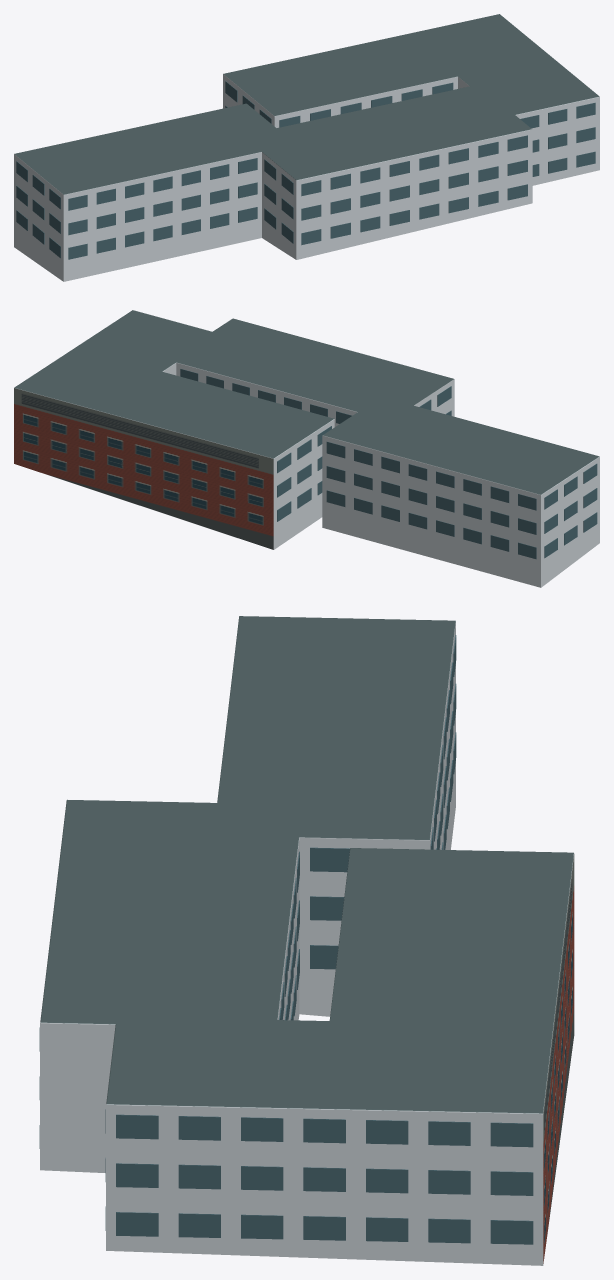
Rendered from fragments.glb.
3 views of the same model, one above another, from view 1: azimuth 30°, elevation 25°; view 2: azimuth 150°, elevation 25°; view 3: azimuth 270°, elevation 25° (orthographic). The views are drawn at different scales.
Parts seen in each view (by area): view 1: SM_kbsi_Fragment_008, SM_kbsi_Fragment_036, SM_kbsi_Fragment_019, SM_kbsi_Fragment_024, SM_kbsi_Fragment_014, SM_kbsi_Fragment_031, SM_kbsi_Fragment_061, SM_kbsi_Fragment_000, SM_kbsi_Fragment_051, SM_kbsi_Fragment_056, SM_kbsi_Fragment_039, SM_kbsi_Fragment_044 (+35 smaller); view 2: SM_kbsi_Fragment_042, SM_kbsi_Fragment_023, SM_kbsi_Fragment_034, SM_kbsi_Fragment_006, SM_kbsi_Fragment_009, SM_kbsi_Fragment_053, SM_kbsi_Fragment_049, SM_kbsi_Fragment_001, SM_kbsi_Fragment_069, SM_kbsi_Fragment_040, SM_kbsi_Fragment_010, SM_kbsi_Fragment_033 (+34 smaller); view 3: SM_kbsi_Fragment_011, SM_kbsi_Fragment_005, SM_kbsi_Fragment_031, SM_kbsi_Fragment_047, SM_kbsi_Fragment_067, SM_kbsi_Fragment_052, SM_kbsi_Fragment_024, SM_kbsi_Fragment_012, SM_kbsi_Fragment_020, SM_kbsi_Fragment_039, SM_kbsi_Fragment_058, SM_kbsi_Fragment_042 (+28 smaller).
Boxes of the visible parts, left/top/right/bottom form: SM_kbsi_Fragment_008: left=125, top=148, right=217, bottom=222; SM_kbsi_Fragment_036: left=448, top=120, right=532, bottom=182; SM_kbsi_Fragment_019: left=39, top=183, right=127, bottom=249; SM_kbsi_Fragment_024: left=381, top=114, right=450, bottom=183; SM_kbsi_Fragment_014: left=298, top=146, right=387, bottom=216; SM_kbsi_Fragment_031: left=548, top=85, right=599, bottom=179; SM_kbsi_Fragment_061: left=218, top=130, right=310, bottom=198; SM_kbsi_Fragment_000: left=437, top=172, right=527, bottom=226; SM_kbsi_Fragment_051: left=326, top=157, right=403, bottom=246; SM_kbsi_Fragment_056: left=264, top=155, right=324, bottom=229; SM_kbsi_Fragment_039: left=255, top=75, right=348, bottom=122; SM_kbsi_Fragment_044: left=372, top=177, right=439, bottom=241; SM_kbsi_Fragment_042: left=14, top=378, right=121, bottom=444; SM_kbsi_Fragment_023: left=224, top=472, right=304, bottom=549; SM_kbsi_Fragment_034: left=97, top=397, right=162, bottom=477; SM_kbsi_Fragment_006: left=362, top=438, right=436, bottom=504; SM_kbsi_Fragment_009: left=424, top=496, right=501, bottom=573; SM_kbsi_Fragment_053: left=422, top=441, right=501, bottom=505; SM_kbsi_Fragment_049: left=322, top=473, right=388, bottom=542; SM_kbsi_Fragment_001: left=503, top=473, right=577, bottom=539; SM_kbsi_Fragment_069: left=191, top=421, right=275, bottom=491; SM_kbsi_Fragment_040: left=136, top=468, right=212, bottom=529; SM_kbsi_Fragment_010: left=161, top=400, right=227, bottom=474; SM_kbsi_Fragment_033: left=322, top=418, right=381, bottom=482; SM_kbsi_Fragment_011: left=376, top=1088, right=545, bottom=1265; SM_kbsi_Fragment_005: left=145, top=1036, right=345, bottom=1201; SM_kbsi_Fragment_031: left=105, top=1064, right=230, bottom=1253; SM_kbsi_Fragment_047: left=287, top=1030, right=457, bottom=1155; SM_kbsi_Fragment_067: left=300, top=1149, right=462, bottom=1262; SM_kbsi_Fragment_052: left=85, top=960, right=260, bottom=1053; SM_kbsi_Fragment_024: left=49, top=886, right=232, bottom=966; SM_kbsi_Fragment_012: left=40, top=1040, right=170, bottom=1172; SM_kbsi_Fragment_020: left=178, top=820, right=349, bottom=967; SM_kbsi_Fragment_039: left=342, top=857, right=481, bottom=936; SM_kbsi_Fragment_058: left=232, top=617, right=381, bottom=695; SM_kbsi_Fragment_042: left=444, top=1024, right=553, bottom=1163.
Size of the model in its own units: 2.2 by 0.3831 by 0.9978.
Materials: 5 (1 with a texture image).
